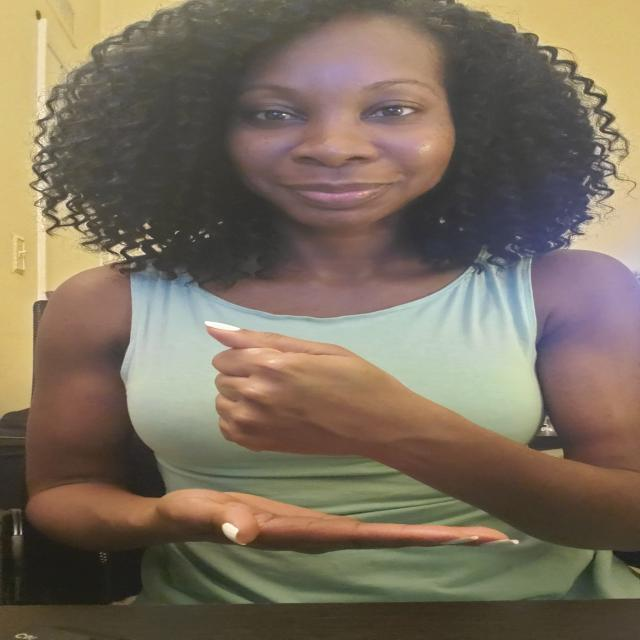Rock: (197, 314, 423, 475)
